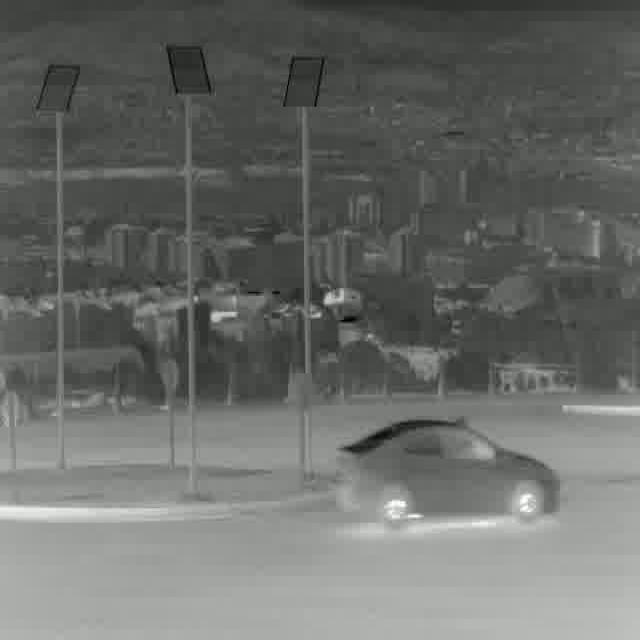Car: (334, 416, 560, 528)
